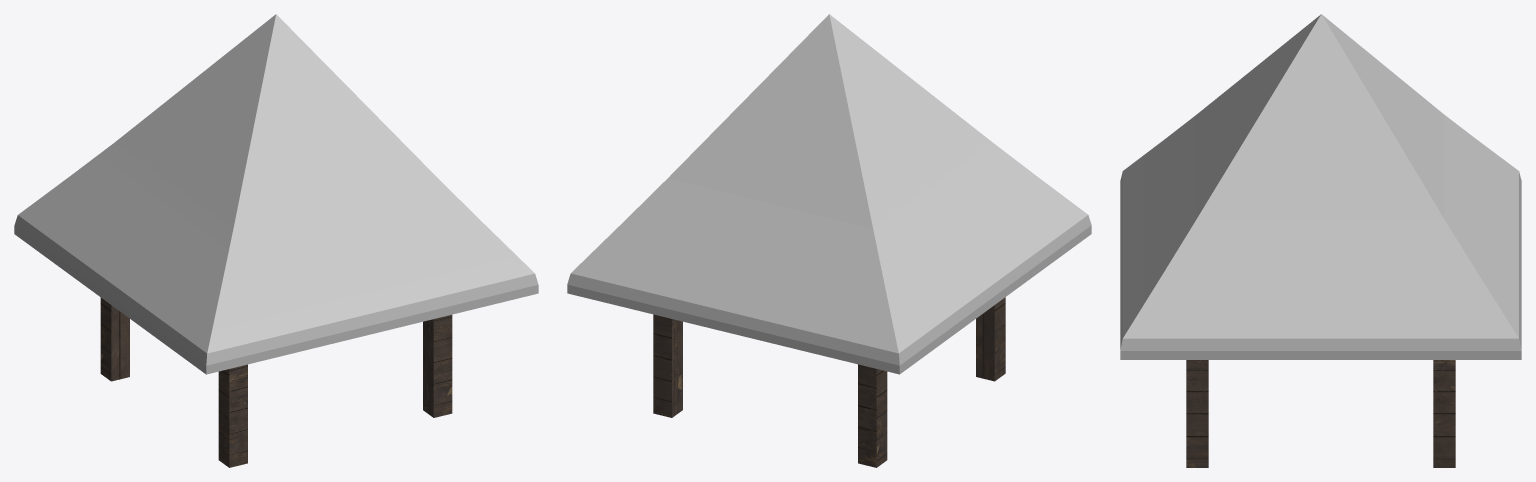
The model's file is Roof-3.fbx.
3 renders of one model, left to right at view 1: azimuth 30°, elevation 25°; view 2: azimuth 150°, elevation 25°; view 3: azimuth 270°, elevation 25°, orthographic. The views are drawn at different scales.
Parts seen in each view (by area): view 1: StrechaTypB; view 2: StrechaTypB; view 3: StrechaTypB.
Boxes of the visible parts, x1,y1,x2,y2 form: StrechaTypB: (14, 14, 538, 467); StrechaTypB: (567, 14, 1091, 467); StrechaTypB: (1120, 14, 1521, 467).
Bounding box in the file's own units: 1514 × 1652 × 1514.
